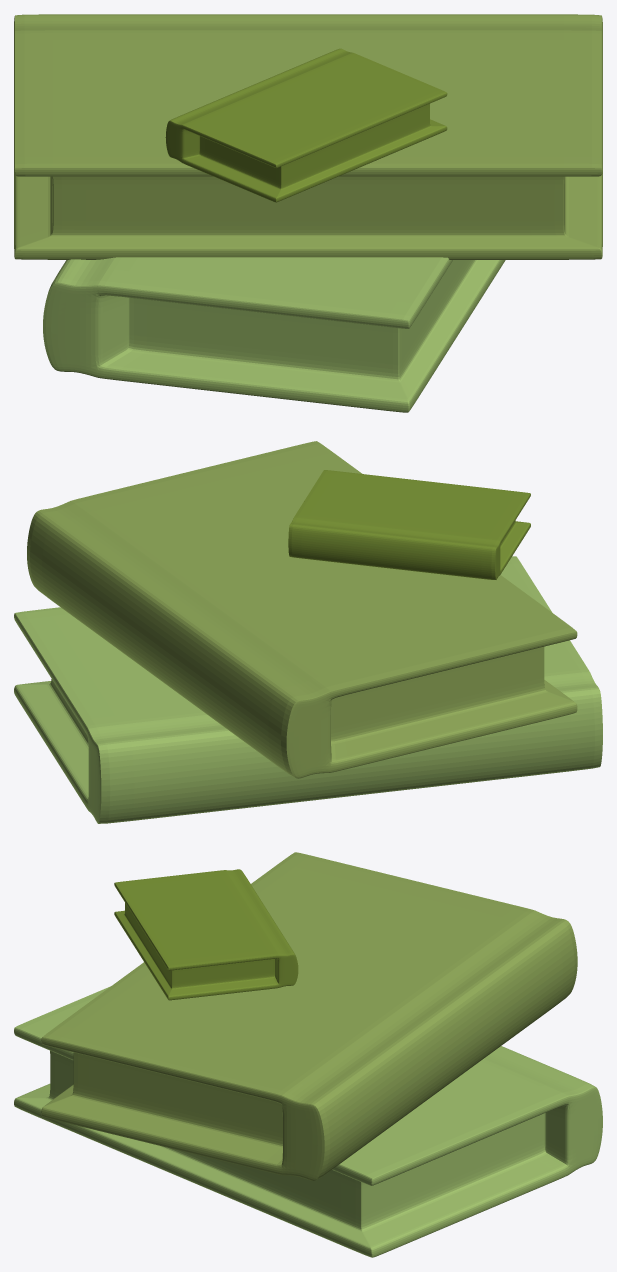
The model's file is Book4.glb.
The picture shows the model from 3 angles, top to bottom: view 1: azimuth 30°, elevation 25°; view 2: azimuth 150°, elevation 25°; view 3: azimuth 270°, elevation 25°; orthographic projection. The views are drawn at different scales.
Visible parts, largest first — view 1: pCube30, pCube29, pCube33; view 2: pCube30, pCube29, pCube33; view 3: pCube30, pCube29, pCube33.
Boxes of the visible parts, x1=… form: pCube30: x1=14, y1=14, x2=602, y2=259; pCube29: x1=43, y1=257, x2=505, y2=412; pCube33: x1=165, y1=48, x2=447, y2=202; pCube30: x1=27, y1=441, x2=577, y2=778; pCube29: x1=14, y1=556, x2=602, y2=823; pCube33: x1=288, y1=470, x2=530, y2=579; pCube30: x1=41, y1=852, x2=577, y2=1180; pCube29: x1=14, y1=986, x2=602, y2=1257; pCube33: x1=114, y1=869, x2=298, y2=1000.
Size of the model in its own units: 91.15 by 32.48 by 89.17.
